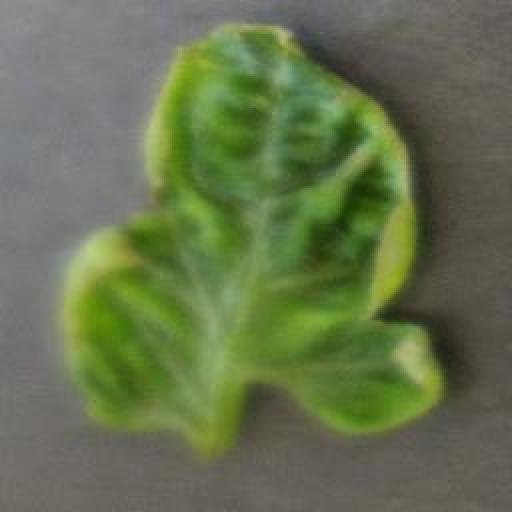disease_tomato: (62, 22, 444, 436)
